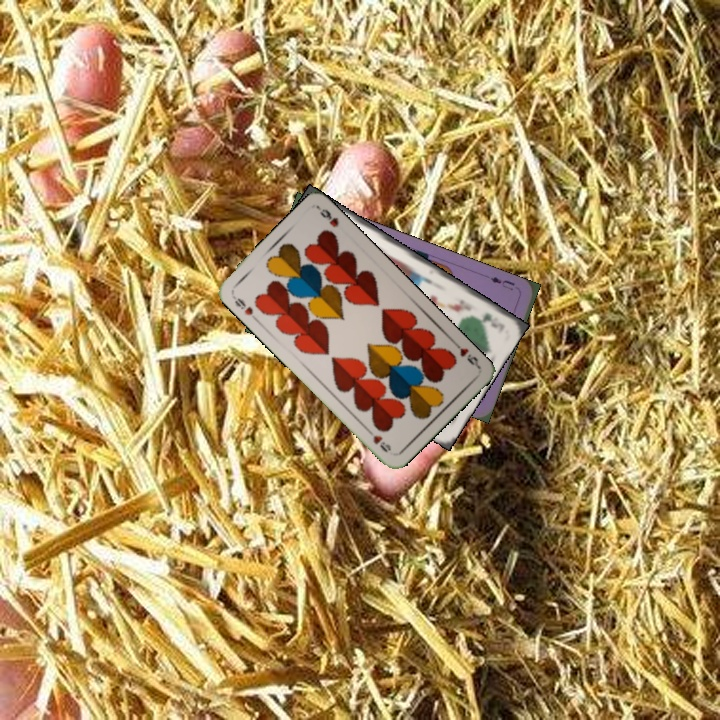EU: (486, 272, 517, 293)
GK: (478, 309, 501, 331)
H9: (228, 291, 261, 324), (449, 337, 481, 370)
